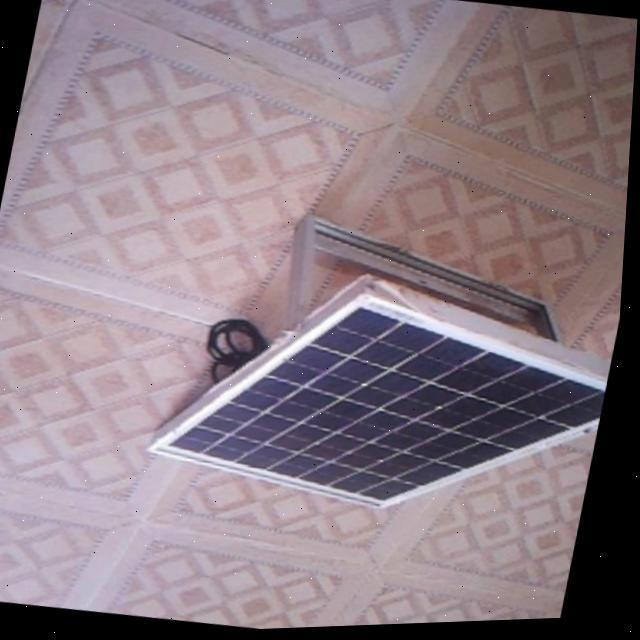Normal Solar Panel: (145, 244, 628, 546)
